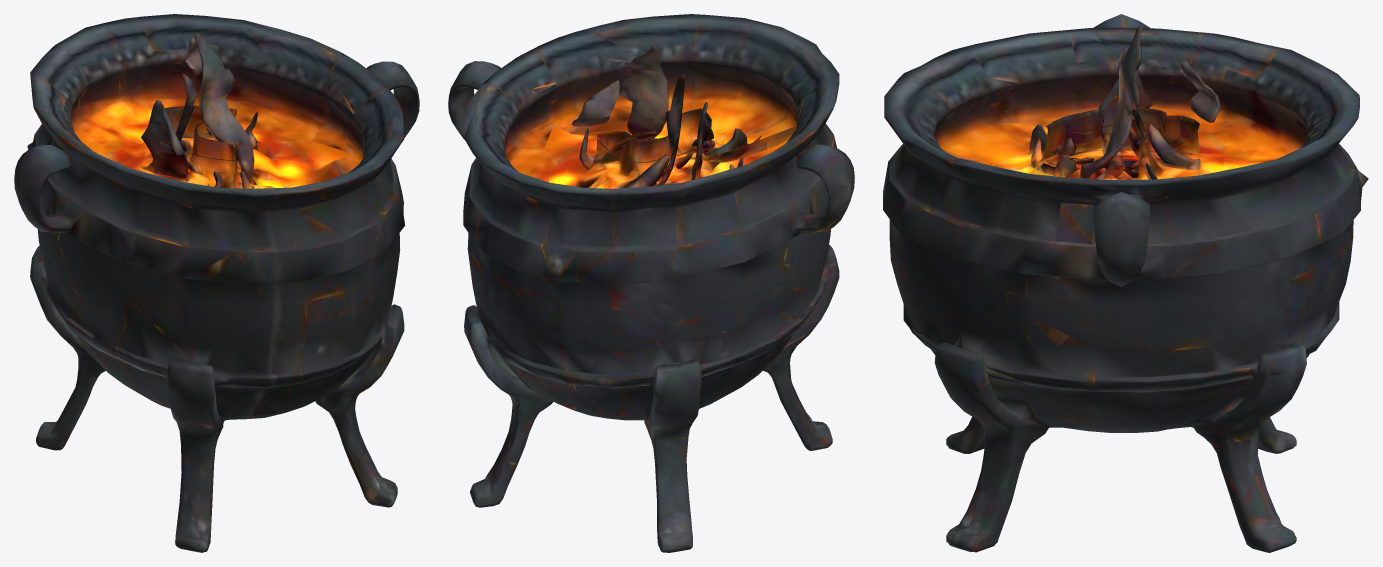
File: briarhold-fire-pot-256.glb
The picture shows the model from 3 angles, left to right: view 1: azimuth 30°, elevation 25°; view 2: azimuth 150°, elevation 25°; view 3: azimuth 270°, elevation 25°; orthographic projection. The views are drawn at different scales.
Visible parts, largest first — view 1: briarhold-fire-pot; view 2: briarhold-fire-pot; view 3: briarhold-fire-pot.
Boxes of the visible parts, <box> form: briarhold-fire-pot: <box>14,14,419,552</box>; briarhold-fire-pot: <box>448,14,854,552</box>; briarhold-fire-pot: <box>883,14,1368,552</box>.
Bounding box in the file's own units: 1.7 × 1.8 × 1.7.
1 material, 1 textured.
